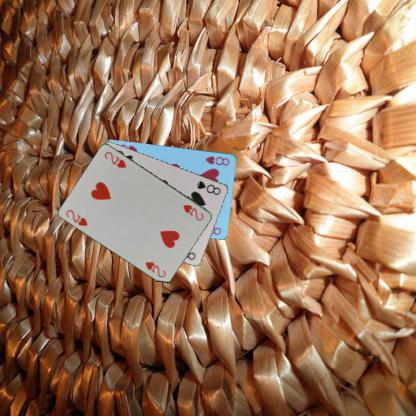2h: (64, 207, 89, 227), (181, 202, 205, 222)
8h: (204, 153, 231, 167)
8s: (194, 178, 222, 196)
